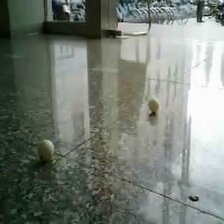w: (36, 138, 55, 161), (148, 97, 161, 112)
